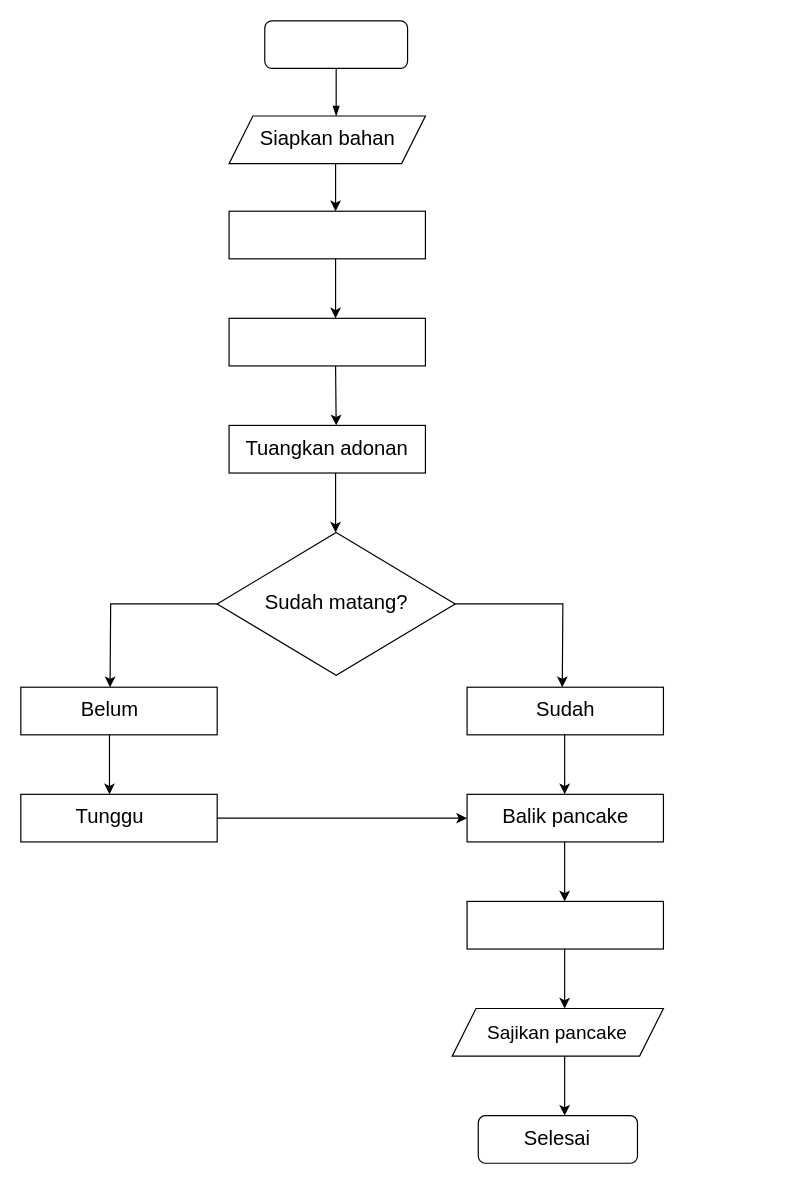
Some shapes in this 793 by 1184 pixel diagram are drawn without their labels. The shapes that lost their labels are listed below. From the top down, each one's centre as x and y in pixels, then its label:
At point 336,44: "Mulai".
At point 326,234: "Campurkan bahan".
At point 326,341: "Panaskan teflon".
At point 564,924: "Masak hingga matang".
